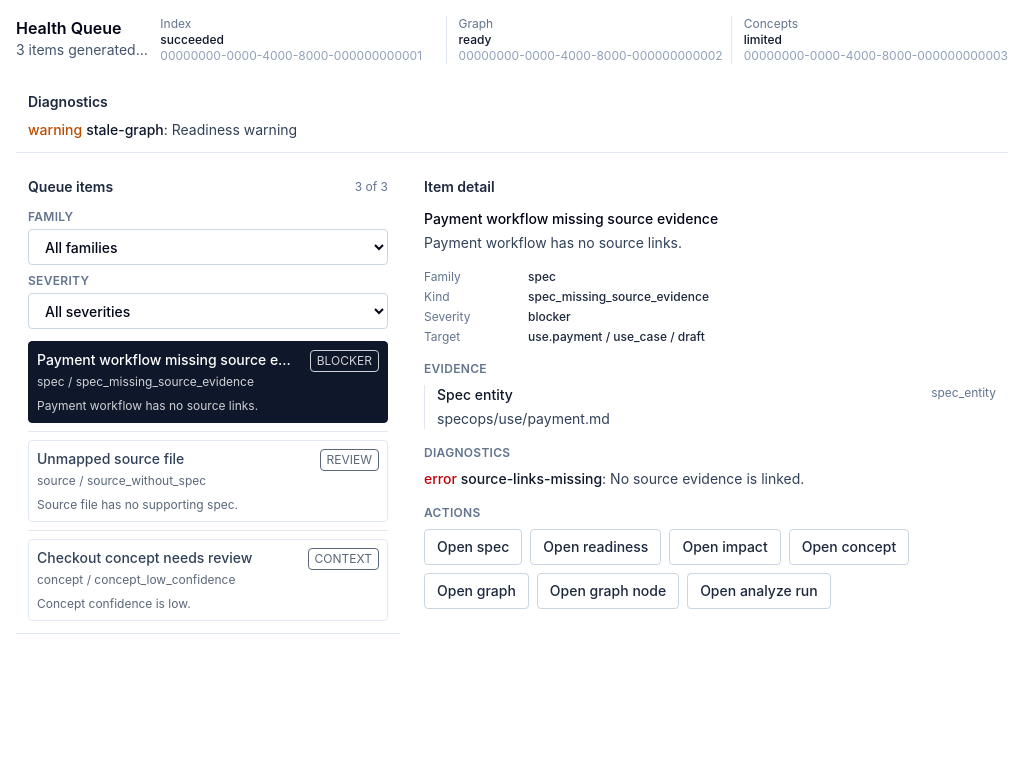
Test: ProjectHealthQueuePage › renders required filters and filters the queue by family
Select "Source" in the dropdown labelled "Family": (208, 247) [28,229,388,265]
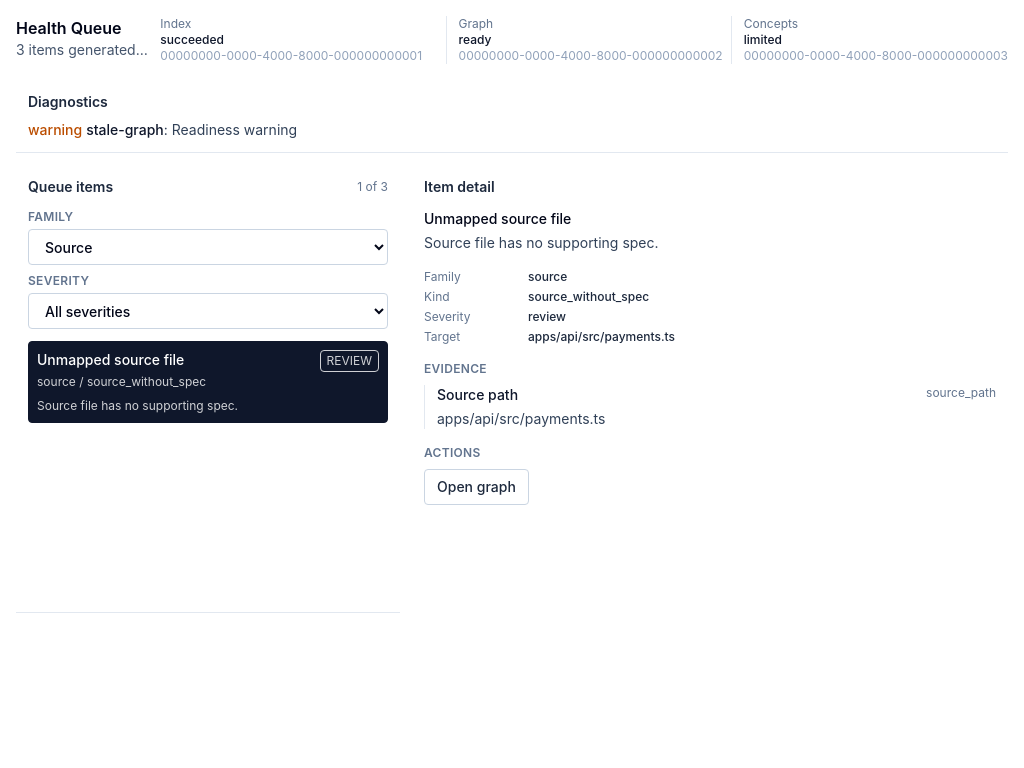
expect the text "Unmapped source file" is shown: met, box [37,350,206,370]
expect the text "Payment workflow missing source evidence" is gone: met
expect the text "Checkout concept needs review" is gone: met
